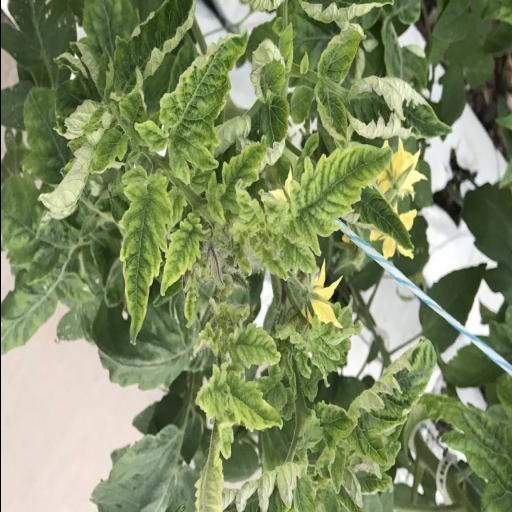Yellow Leaf Curl Virus: (156, 25, 251, 185), (343, 338, 437, 470), (285, 146, 393, 256), (116, 167, 174, 348), (312, 25, 368, 84), (230, 371, 284, 432), (312, 88, 351, 144), (234, 324, 283, 368)
